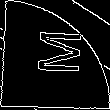M_W: (27, 30, 83, 80)
